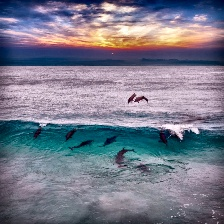dolphin: (68, 140, 94, 151), (128, 92, 148, 104), (103, 135, 118, 147), (65, 128, 77, 141)
